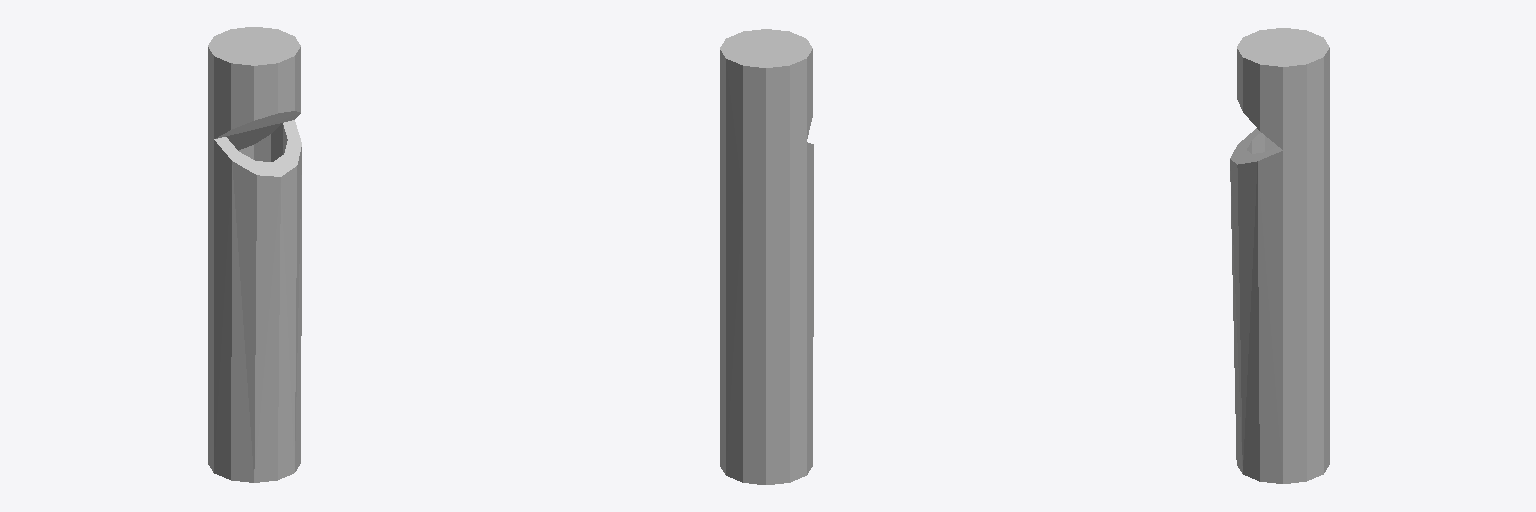
The model's file is Whistle.obj.
The picture shows the model from 3 angles: view 1: azimuth 30°, elevation 25°; view 2: azimuth 150°, elevation 25°; view 3: azimuth 270°, elevation 25°; orthographic projection.
Parts seen in each view (by area): view 1: Converted object 0; view 2: Converted object 0; view 3: Converted object 0.
Part boxes in pixels (x1,y1,x2,y2): Converted object 0: (208, 27, 301, 482); Converted object 0: (720, 29, 813, 484); Converted object 0: (1230, 28, 1329, 483).
Bounding box in the file's own units: 1.01 × 5 × 1.09.